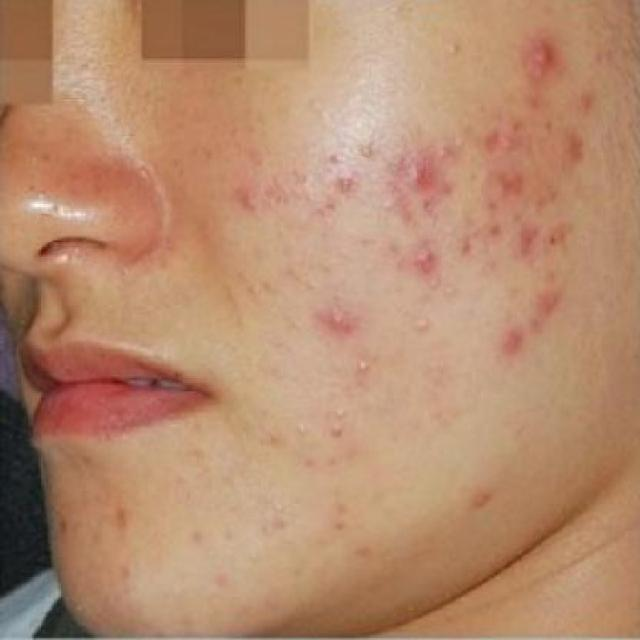Acne: (510, 30, 568, 84), (389, 148, 443, 199), (398, 232, 444, 290), (550, 121, 598, 176), (500, 217, 551, 264), (308, 300, 360, 340), (225, 178, 269, 222), (491, 322, 534, 362), (106, 496, 143, 540), (466, 476, 500, 516), (329, 169, 363, 202)
Whiteheads: (349, 345, 378, 383), (409, 308, 437, 346), (328, 400, 355, 424), (326, 423, 354, 444)
